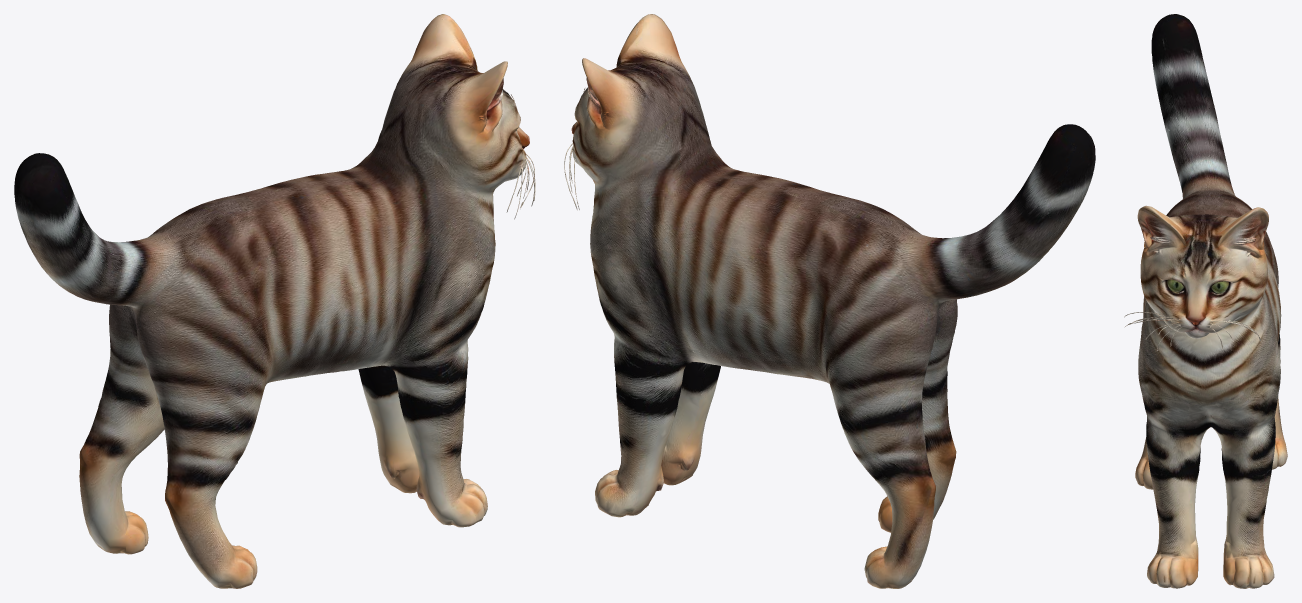
The model's file is WILLOWCAT.glb.
3 views of the same model, side by side, from view 1: azimuth 30°, elevation 25°; view 2: azimuth 150°, elevation 25°; view 3: azimuth 270°, elevation 25° (orthographic). The views are drawn at different scales.
Visible parts, largest first — view 1: fit; view 2: fit; view 3: fit.
Boxes of the visible parts, x1,y1,x2,y2 form: fit: (14,14,535,588); fit: (564,14,1095,588); fit: (1124,14,1287,588).
Size of the model in its own units: 1.18 by 0.9998 by 0.377.
Materials: 1 (1 with a texture image).
